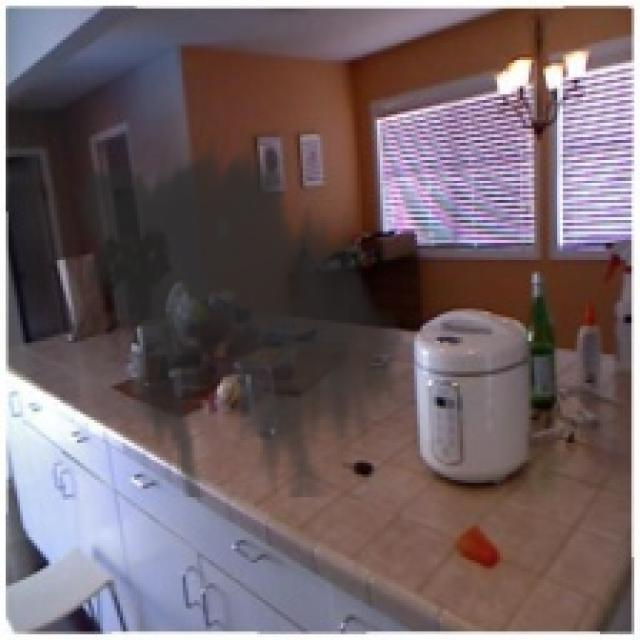Smoke: (59, 132, 414, 497)
